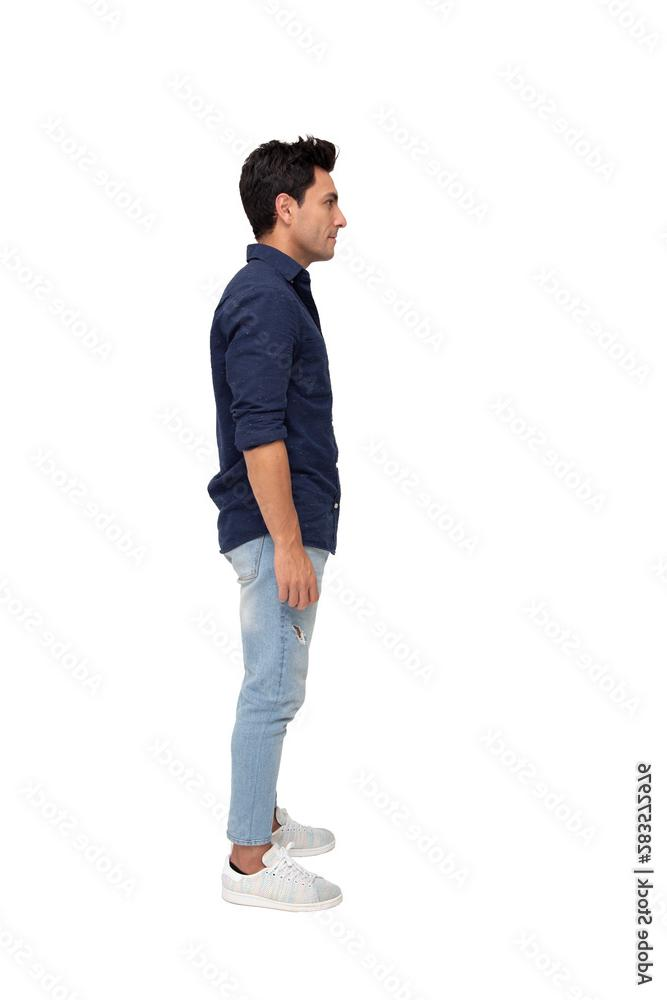long sleeve shirt: (210, 247, 348, 549)
trousers: (219, 532, 339, 852)
